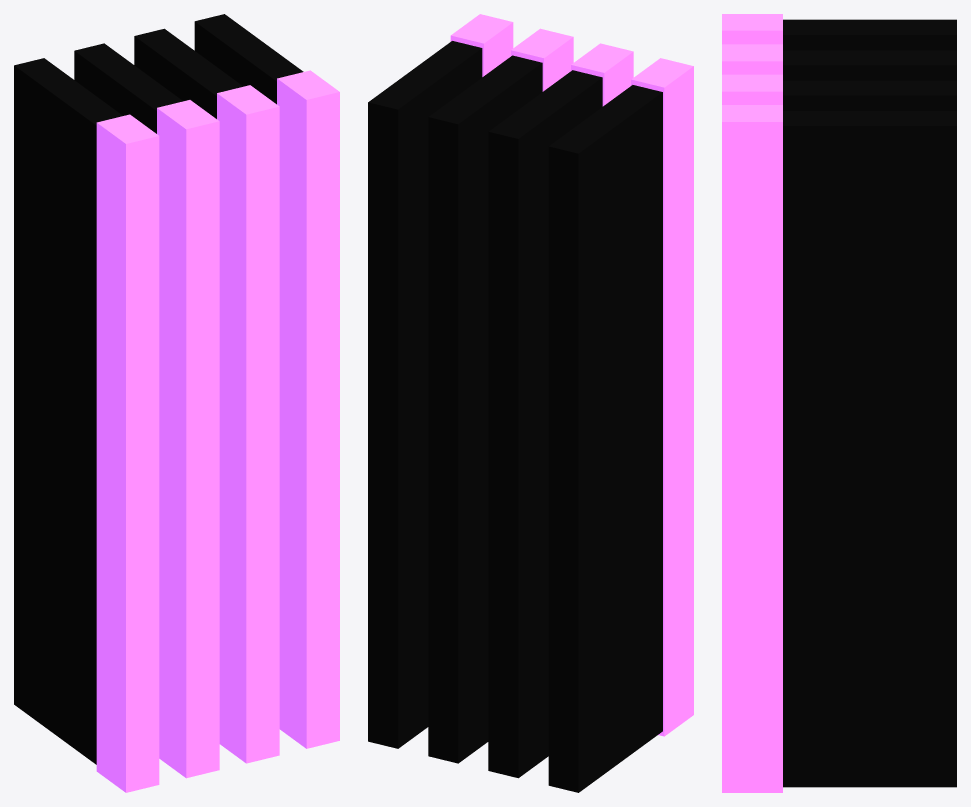
The model's file is corsair-dominator-titanium.glb.
3 views of the same model, side by side, from view 1: azimuth 30°, elevation 25°; view 2: azimuth 150°, elevation 25°; view 3: azimuth 270°, elevation 25° (orthographic). The views are drawn at different scales.
Parts seen in each view (by area): view 1: RamSpreader_0, RGB_RamLightBar_0, RGB_RamLightBar_1, RGB_RamLightBar_2, RGB_RamLightBar_3, RamSpreader_3, RamSpreader_1, RamSpreader_2; view 2: RamSpreader_0, RamSpreader_2, RamSpreader_1, RamSpreader_3, RGB_RamLightBar_0, RGB_RamLightBar_3, RGB_RamLightBar_1, RGB_RamLightBar_2; view 3: RamSpreader_3, RGB_RamLightBar_3, RamSpreader_0, RamSpreader_1, RamSpreader_2, RGB_RamLightBar_0, RGB_RamLightBar_1, RGB_RamLightBar_2.
Boxes of the visible parts, x1,y1,x2,y2 form: RamSpreader_0: (14, 58, 122, 764); RGB_RamLightBar_0: (96, 114, 159, 792); RGB_RamLightBar_1: (157, 100, 219, 778); RGB_RamLightBar_2: (217, 85, 279, 763); RGB_RamLightBar_3: (277, 70, 339, 748); RamSpreader_3: (194, 14, 303, 104); RamSpreader_1: (74, 43, 182, 133); RamSpreader_2: (134, 28, 243, 118); RamSpreader_0: (548, 85, 662, 792); RamSpreader_2: (428, 55, 542, 763); RamSpreader_1: (488, 70, 602, 778); RamSpreader_3: (368, 41, 482, 748); RGB_RamLightBar_0: (631, 58, 693, 736); RGB_RamLightBar_3: (450, 14, 513, 76); RGB_RamLightBar_1: (571, 43, 633, 106); RGB_RamLightBar_2: (511, 28, 573, 91); RamSpreader_3: (783, 111, 956, 787); RGB_RamLightBar_3: (722, 105, 782, 792); RamSpreader_0: (783, 19, 956, 50); RamSpreader_1: (783, 50, 956, 80); RamSpreader_2: (783, 80, 956, 110); RGB_RamLightBar_0: (722, 14, 782, 44); RGB_RamLightBar_1: (722, 44, 782, 74); RGB_RamLightBar_2: (722, 74, 782, 104).
Size of the model in its own units: 0.462 by 1.34 by 0.425.
2 materials, 1 textured.
